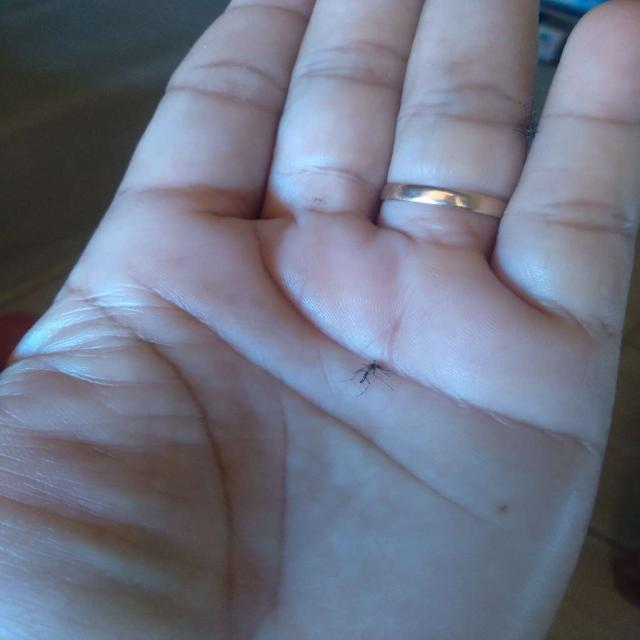aegypti: (326, 347, 398, 395)
